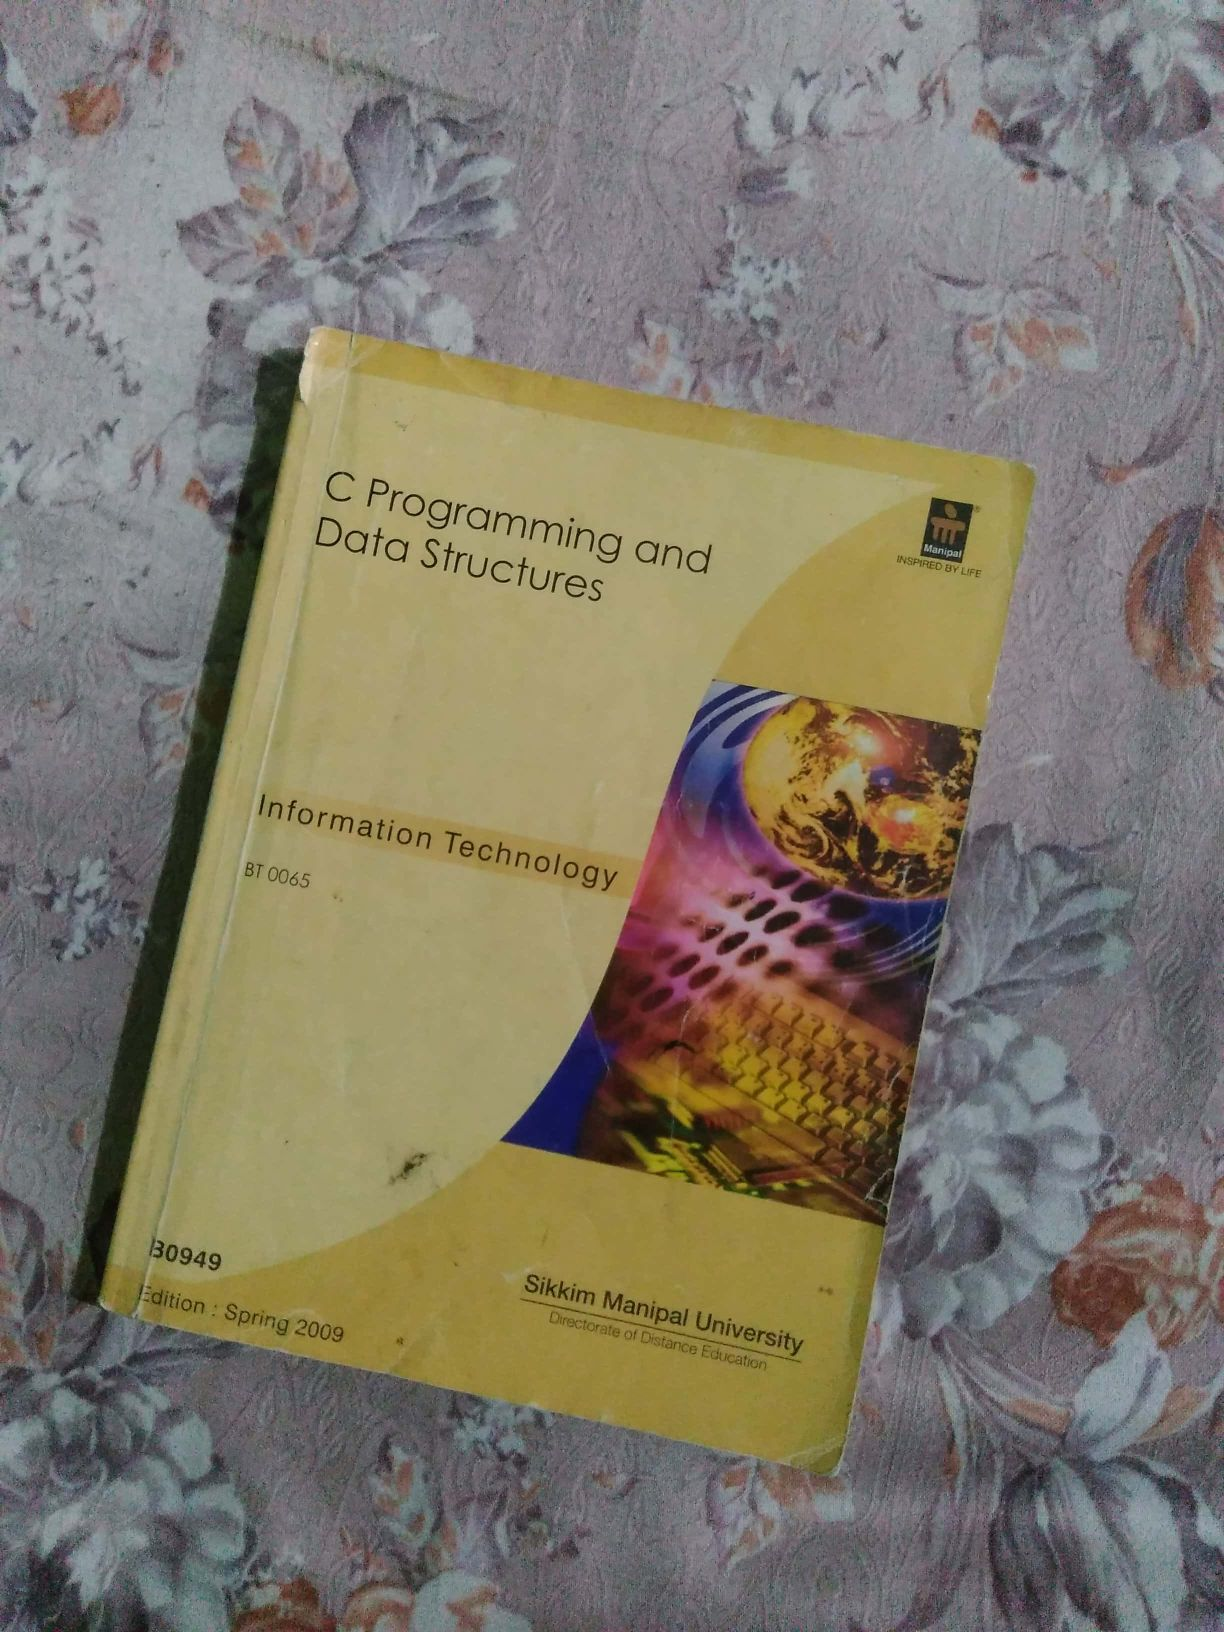clang: (125, 312, 1057, 1510)
